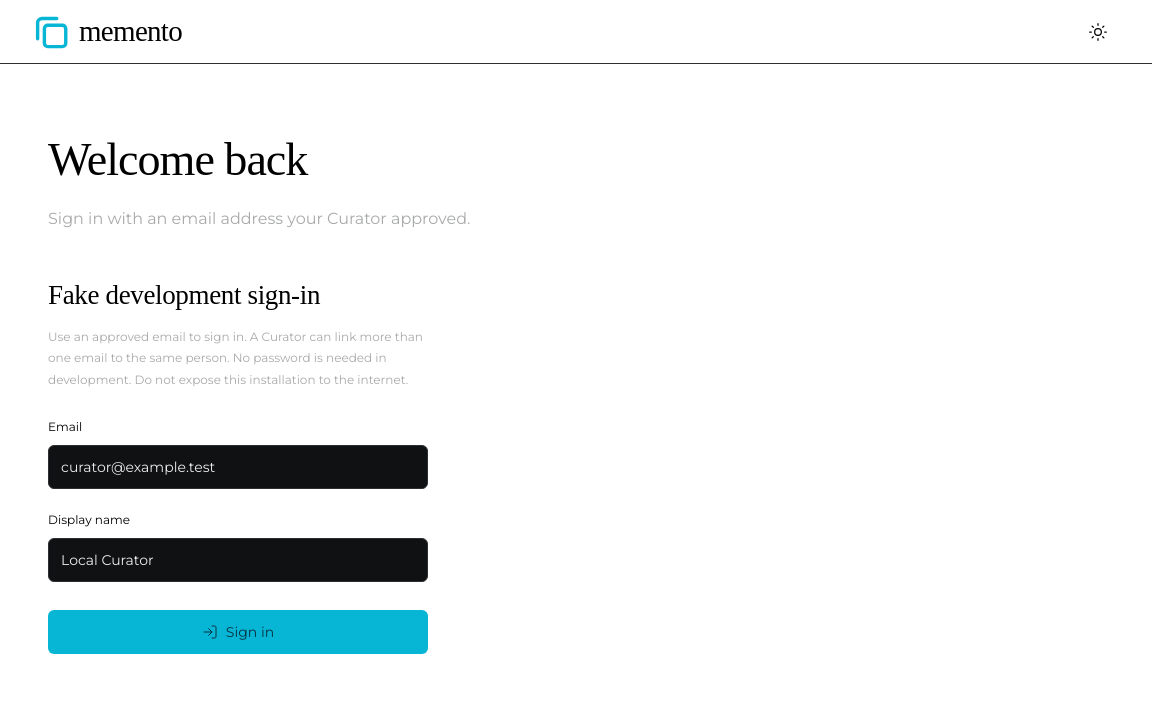
Test: hands a signed-in Person back to the Mobile App after the fake sign-in
Click the button "Sign in" at (238, 632), box [48, 610, 428, 654]
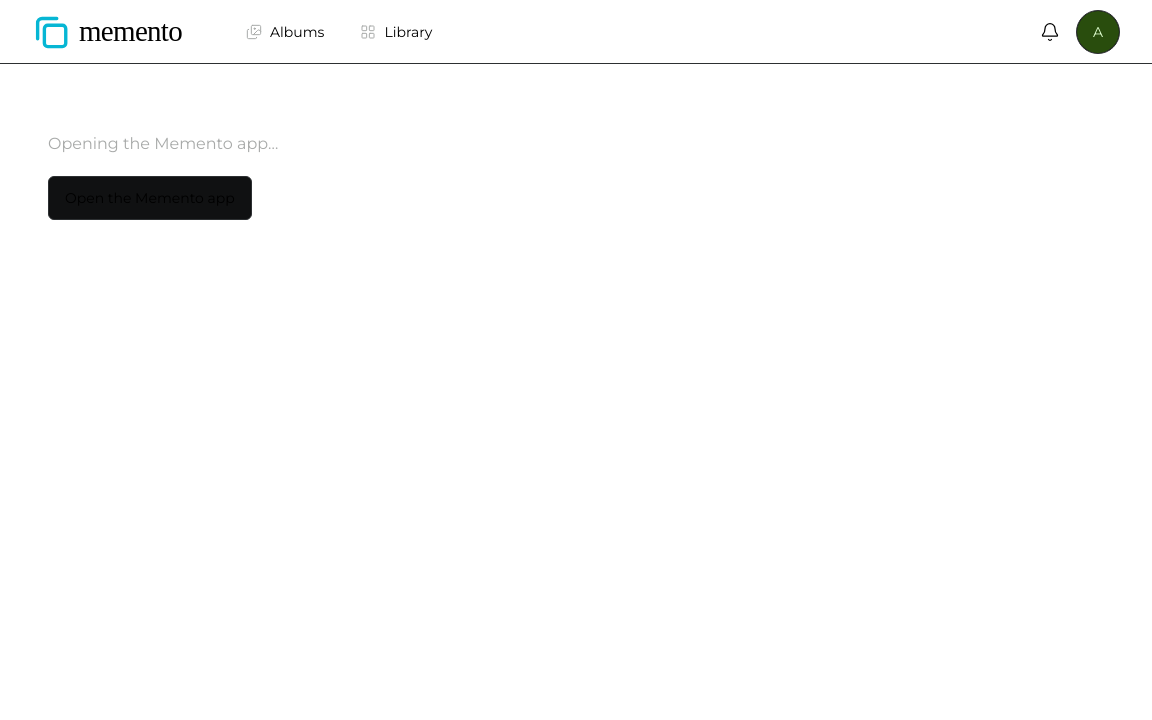
Expected: the message reads "Opening the Memento app…", [48, 134, 278, 153]
